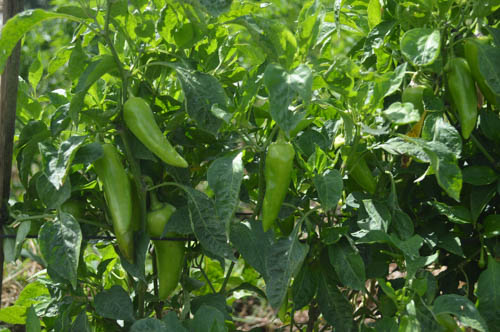ChiliPepper: (125, 100, 189, 169), (146, 209, 185, 293), (93, 145, 133, 226), (258, 143, 292, 232), (449, 60, 479, 136), (345, 151, 372, 195), (402, 88, 427, 106)
